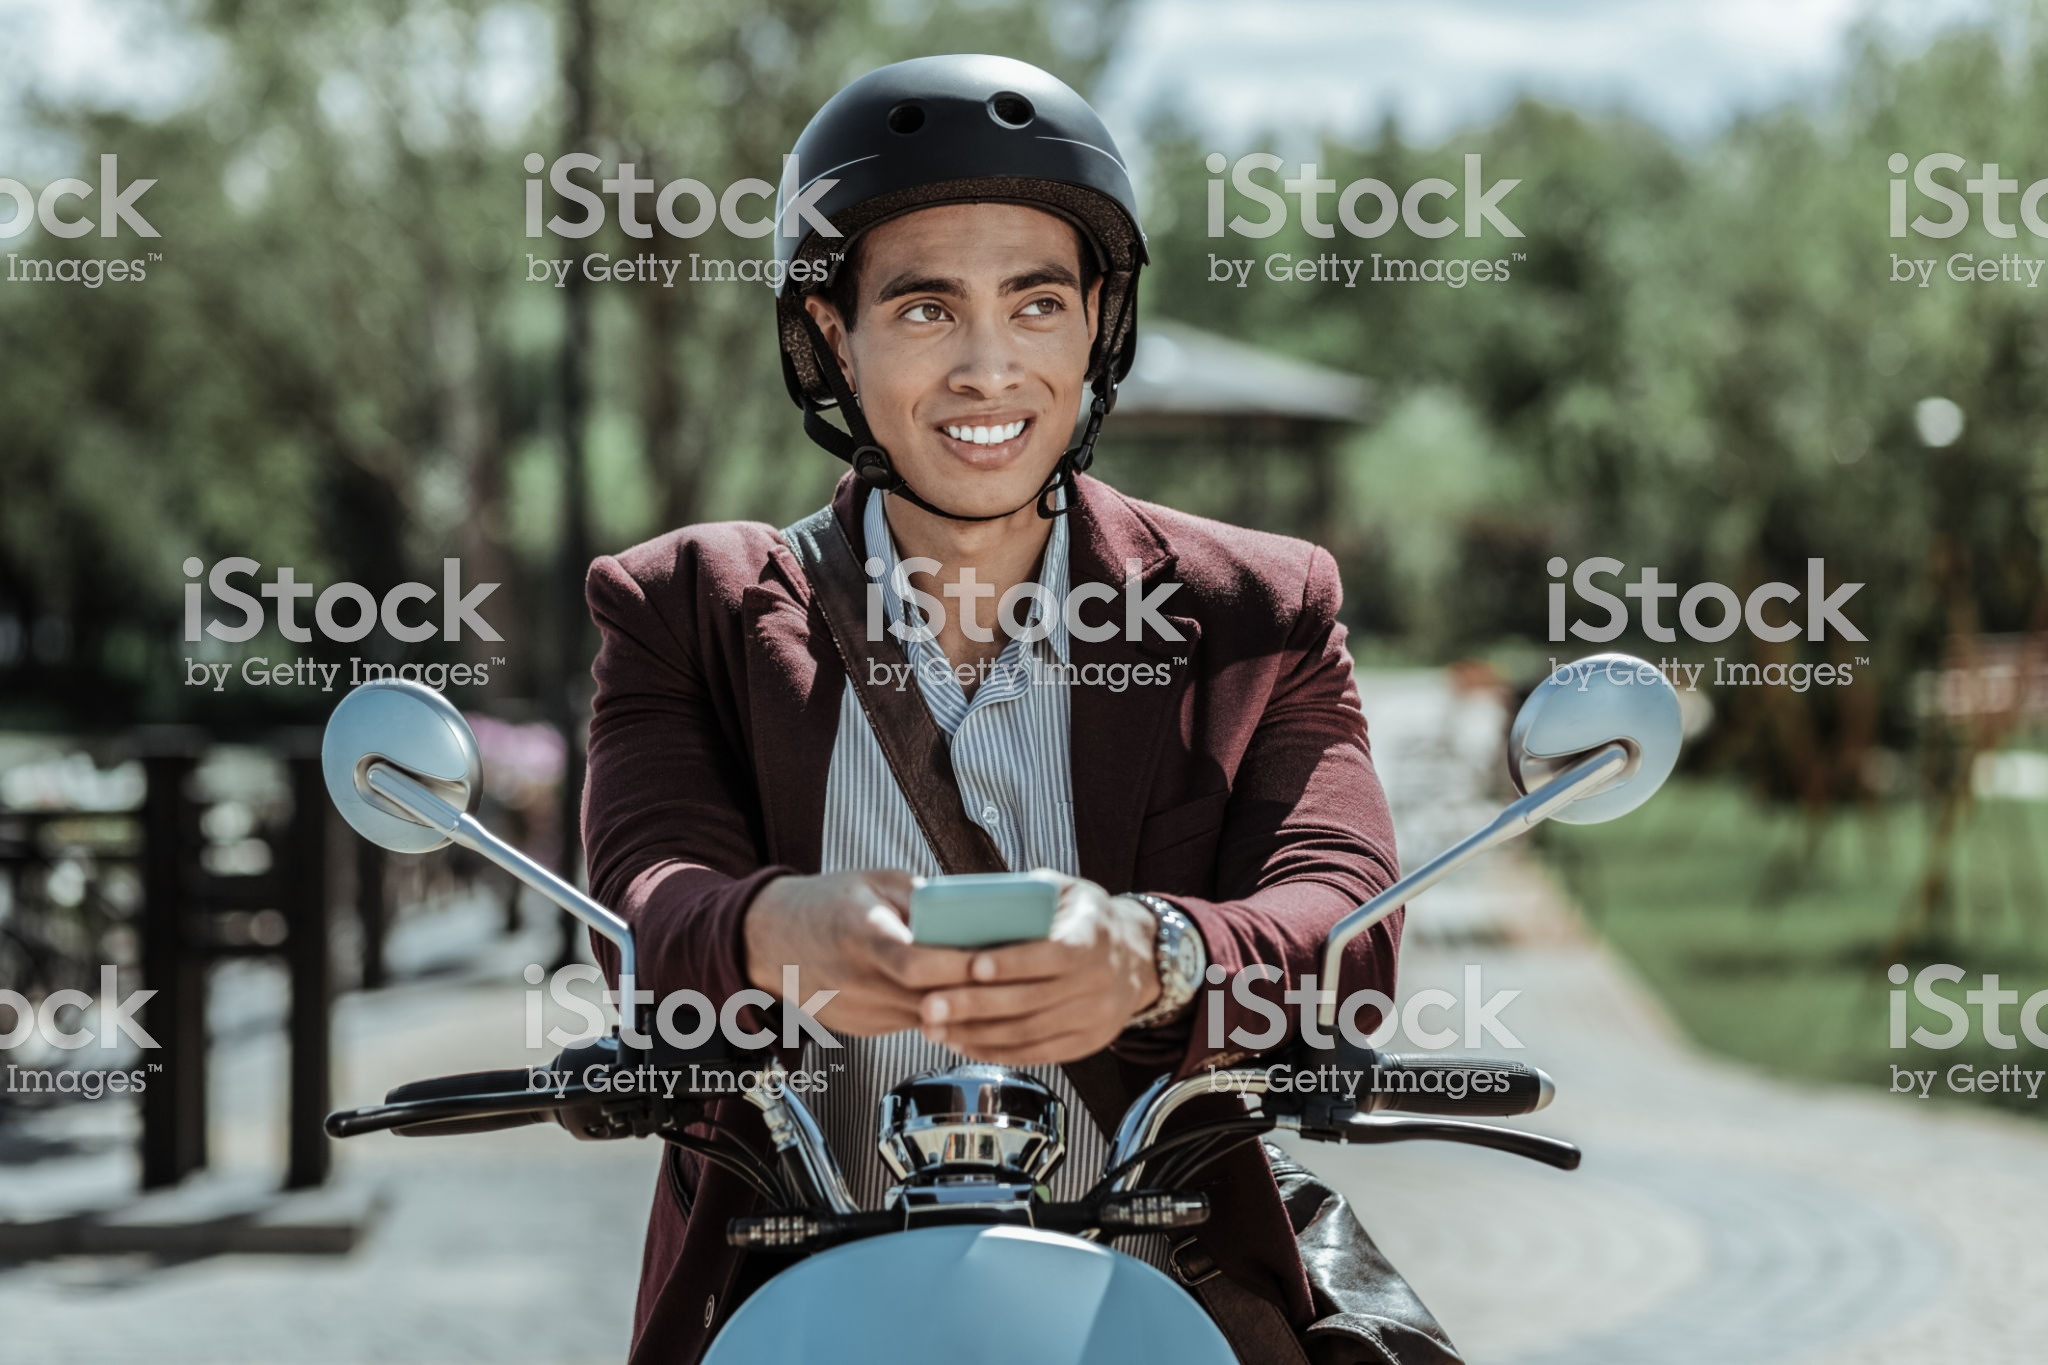helmet: (729, 50, 1195, 296)
